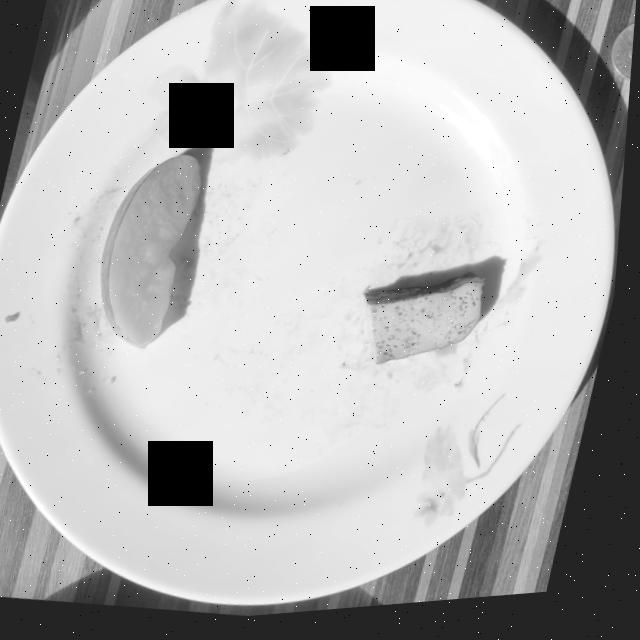apple -sliced-: (104, 158, 204, 351)
coin: (611, 33, 636, 91)
firm tofu: (370, 281, 490, 371)
